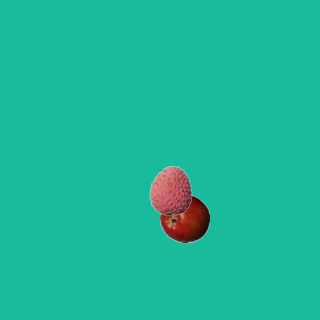Apple Braeburn: (159, 193, 209, 243)
Lychee: (145, 165, 195, 215)
